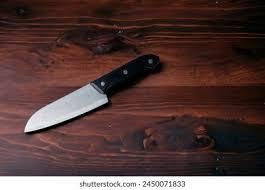Knife: (23, 53, 160, 133)
